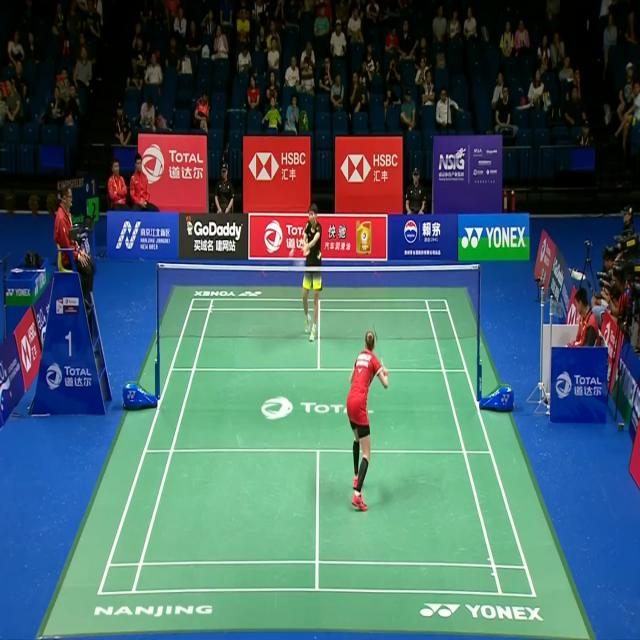Player1: (346, 330, 390, 514)
Player2: (300, 202, 322, 341)
